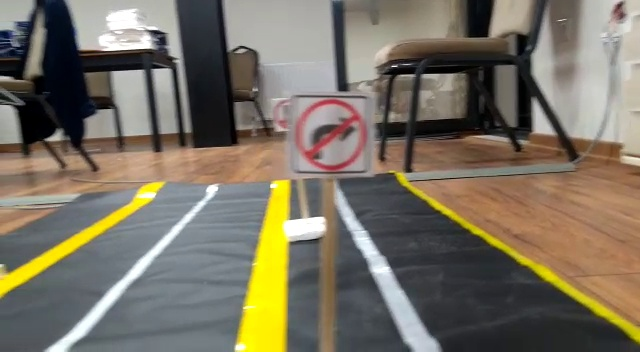saga_donulmez: (293, 97, 371, 168)
